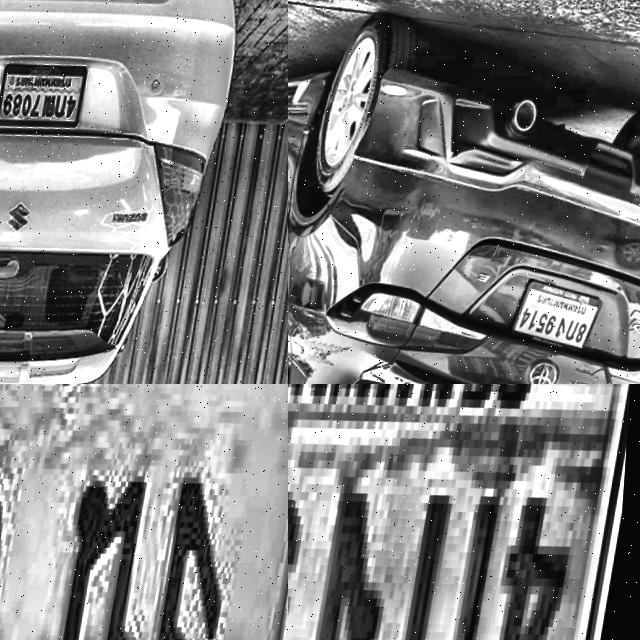license-plate: (288, 384, 640, 640), (0, 384, 288, 640), (509, 275, 610, 370), (0, 57, 92, 139)
